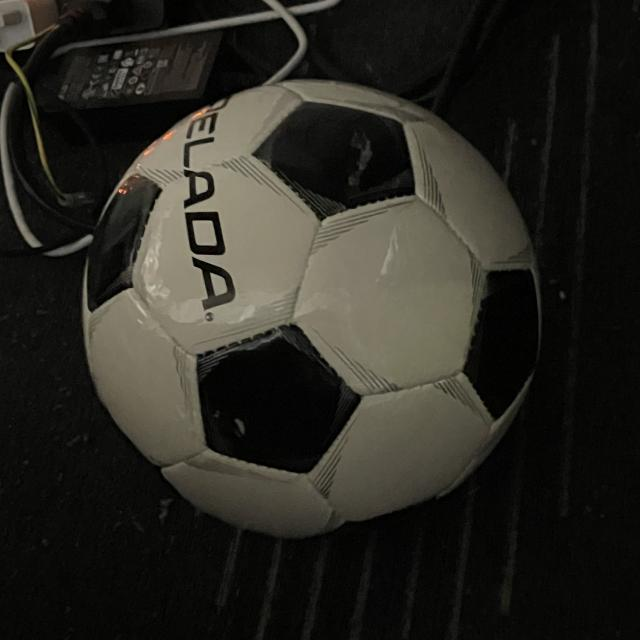ball: (78, 78, 546, 540)
